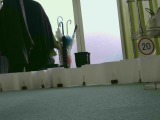speed_20: (137, 36, 155, 56)
